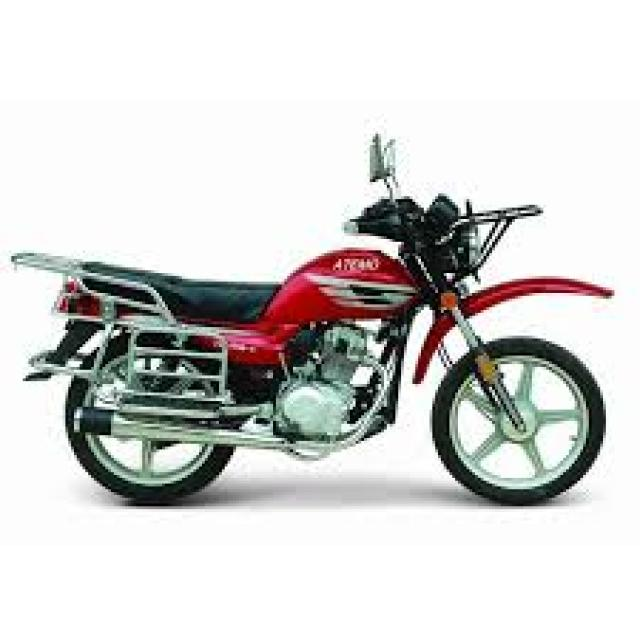bodaboda: (3, 99, 624, 522)
